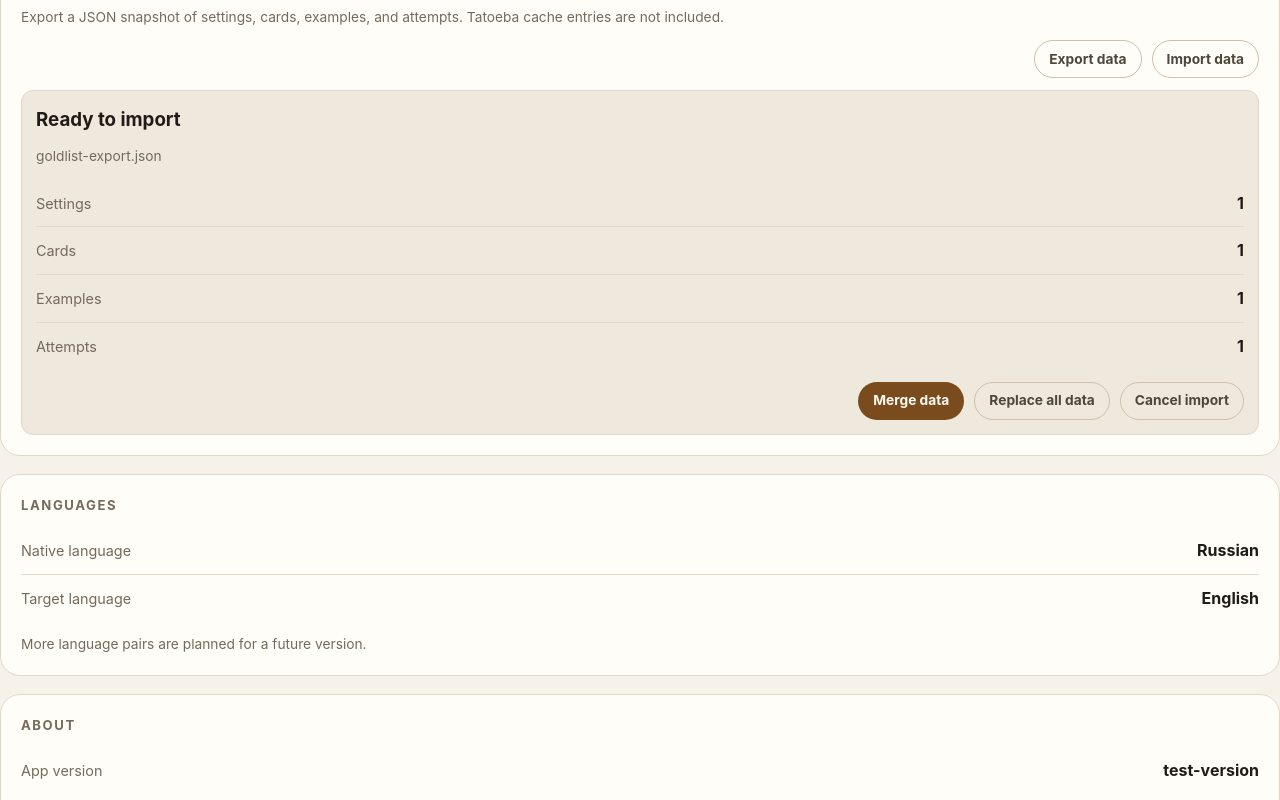
Test: SettingsPage › does not replace data when the backup download fails
Earlier steps of the test are not shown.
(page scrolled)
Expected: the heading "Ready to import" is shown, [36,108,181,131]
Click the button "Replace all data": (1042, 401) [974,382,1110,420]
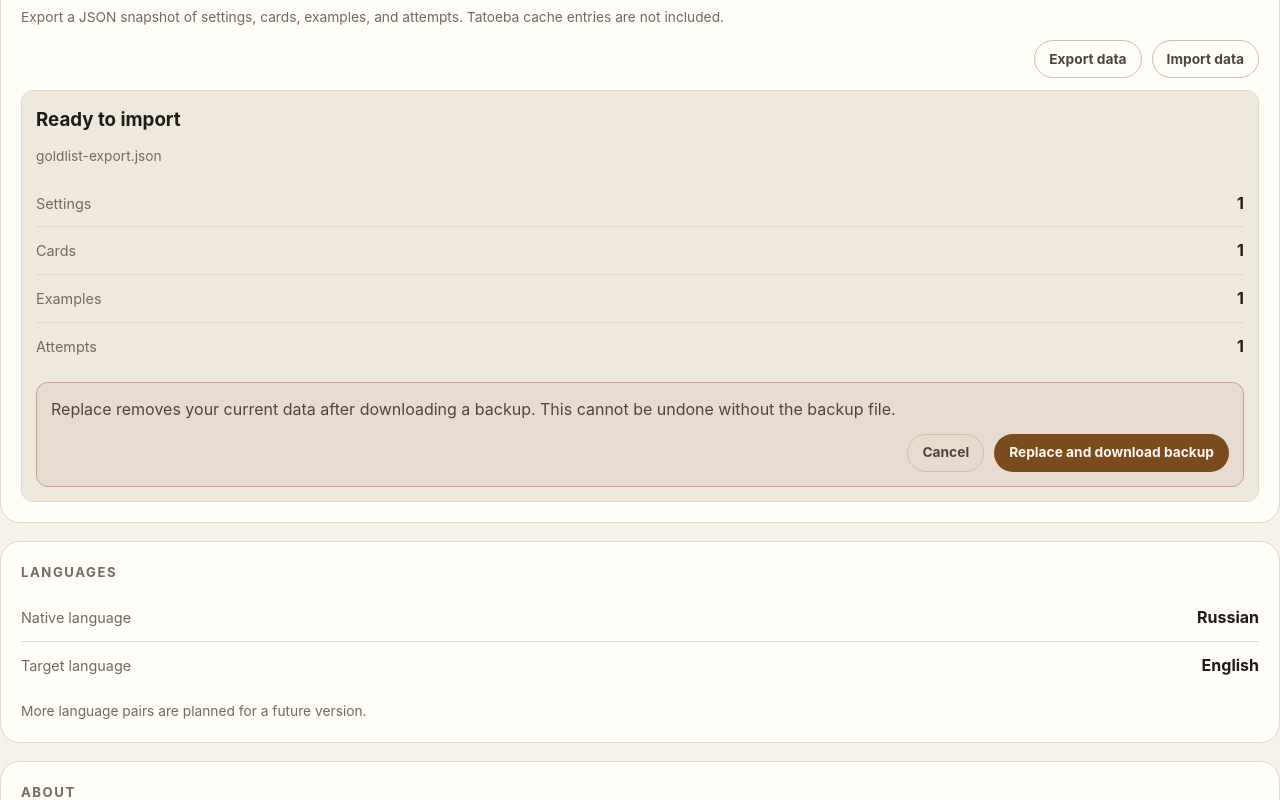
Click the button "Replace and download backup": (1112, 453) [994,434,1229,472]
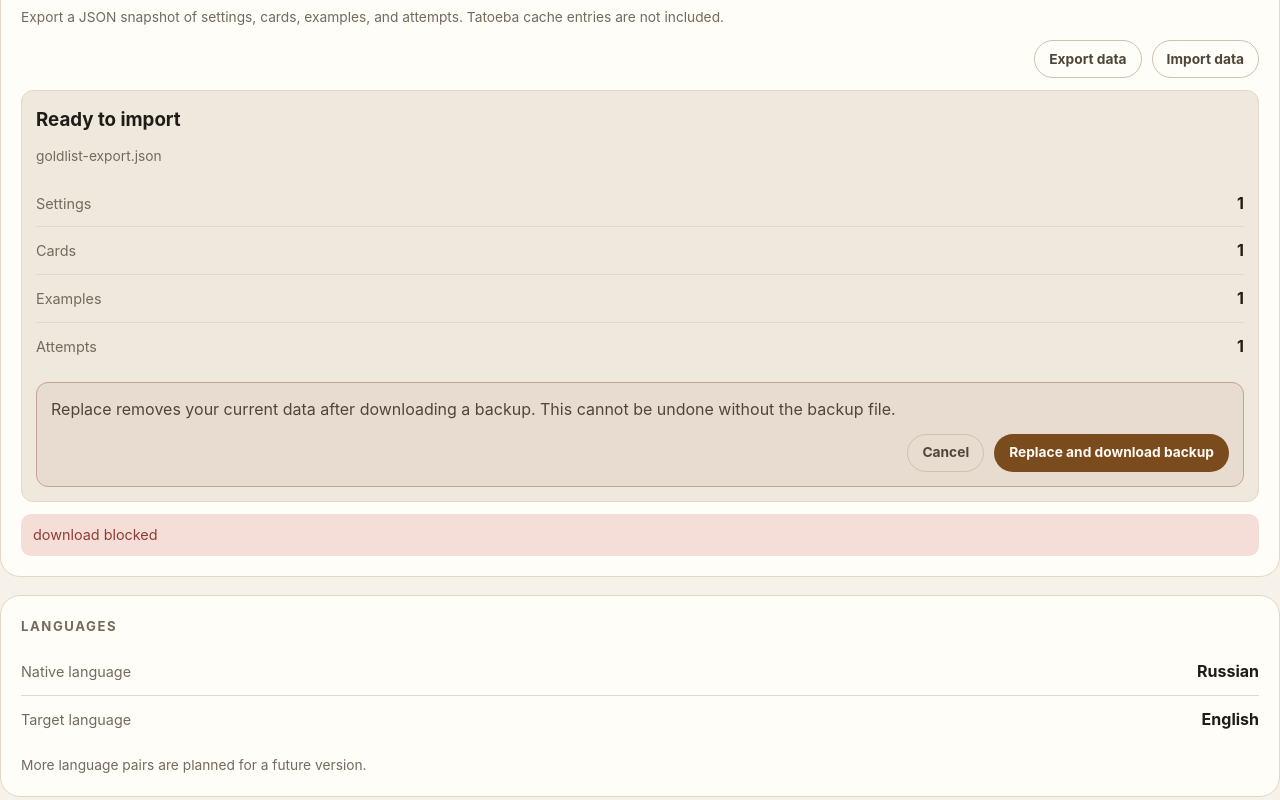
Expected: the message reads "download blocked", [33,526,158,543]
